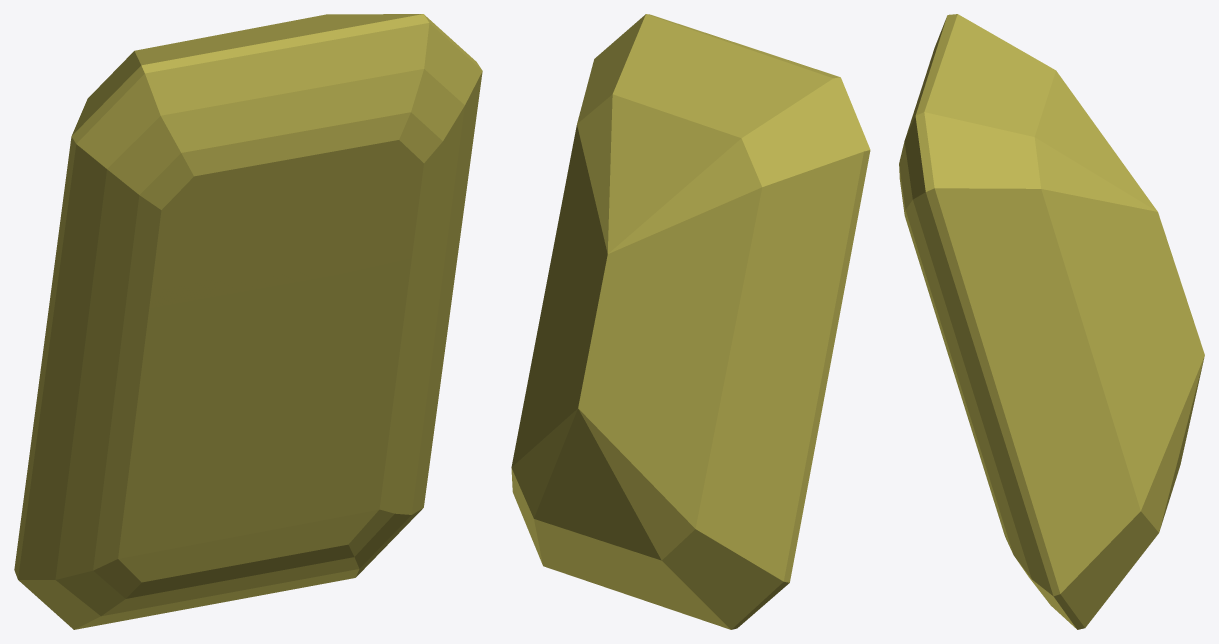
File: BL1_8shapes_Emerald_Classic_Stone.001 3.glb
3 views of the same model, side by side, from view 1: azimuth 30°, elevation 25°; view 2: azimuth 150°, elevation 25°; view 3: azimuth 270°, elevation 25° (orthographic). The views are drawn at different scales.
Parts seen in each view (by area): view 1: BL1_8shapes_Emerald_Classic_Stone.001; view 2: BL1_8shapes_Emerald_Classic_Stone.001; view 3: BL1_8shapes_Emerald_Classic_Stone.001.
Part boxes in pixels (x1=…): BL1_8shapes_Emerald_Classic_Stone.001: x1=14, y1=14, x2=482, y2=629; BL1_8shapes_Emerald_Classic_Stone.001: x1=511, y1=14, x2=870, y2=629; BL1_8shapes_Emerald_Classic_Stone.001: x1=899, y1=14, x2=1204, y2=629.
Size of the model in its own units: 0.3436 by 0.5267 by 0.2872.
